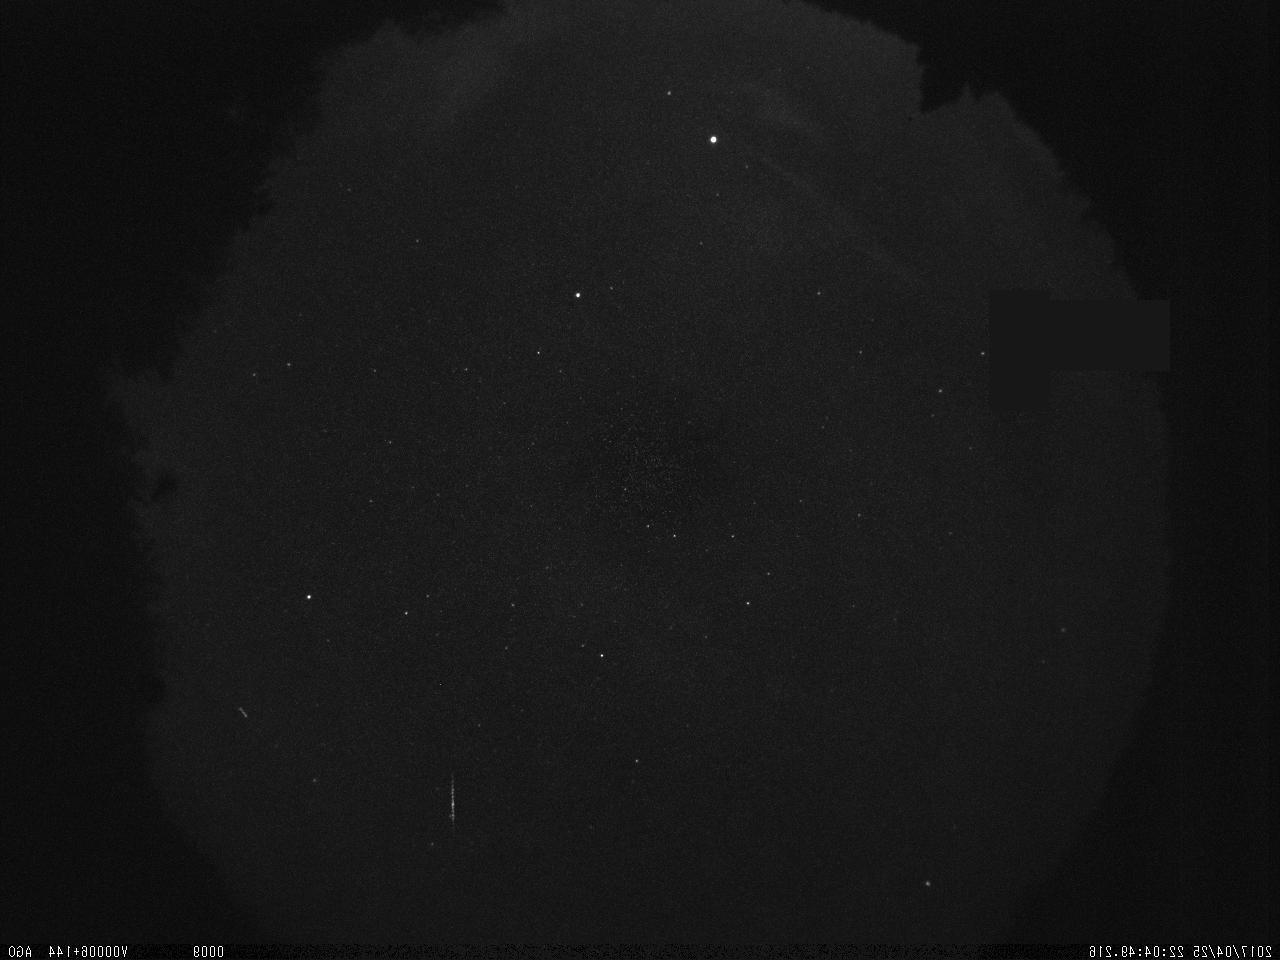meteor: (436, 767, 463, 839)
